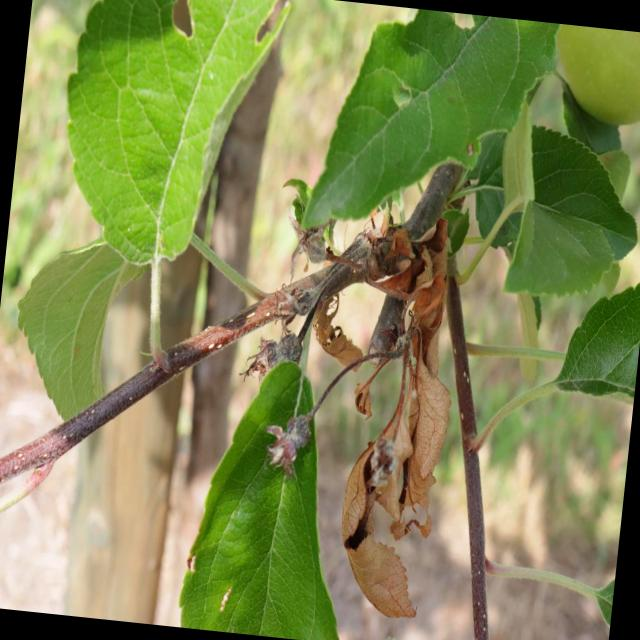-FireBlight-: (312, 207, 458, 631)
